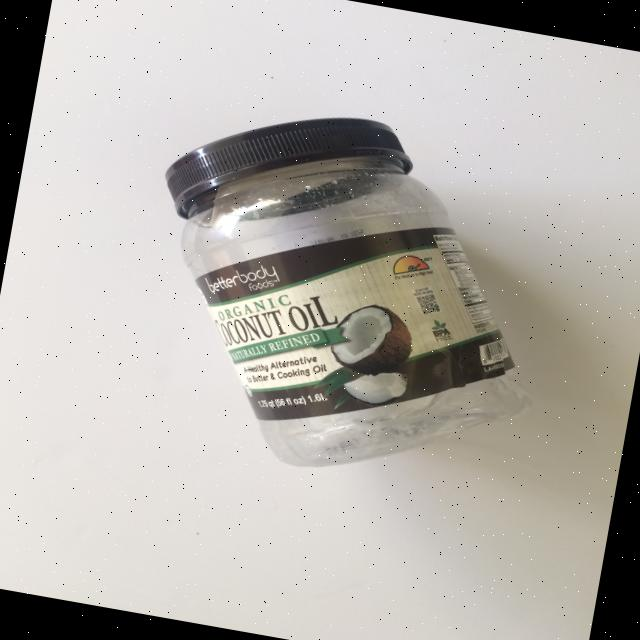plastic: (118, 85, 576, 505)
